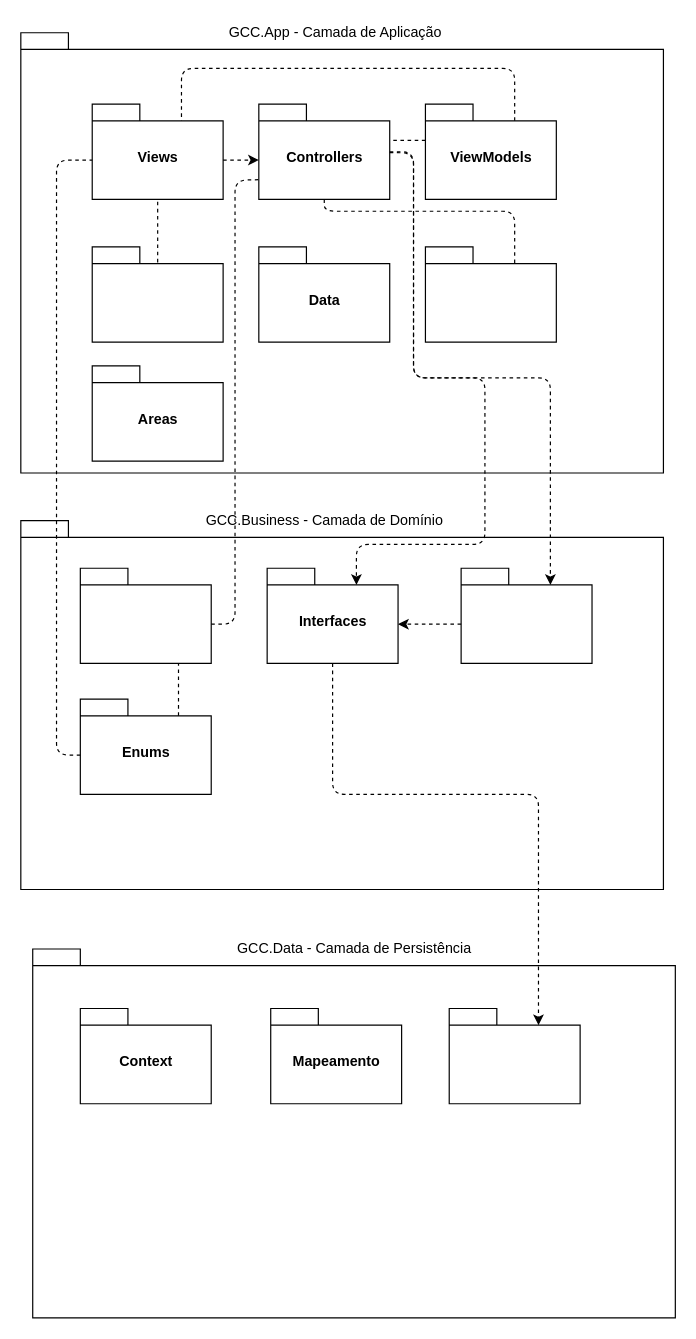
Some shapes in this 696 by 1339 pixel diagram are drawn without their labels. Each missing label, with the centre of its shape:
AutoMapper: pixel 490 294
Extensions: pixel 157 294
Modelos: pixel 145 615
Repository: pixel 514 1055
Servicos: pixel 526 615
